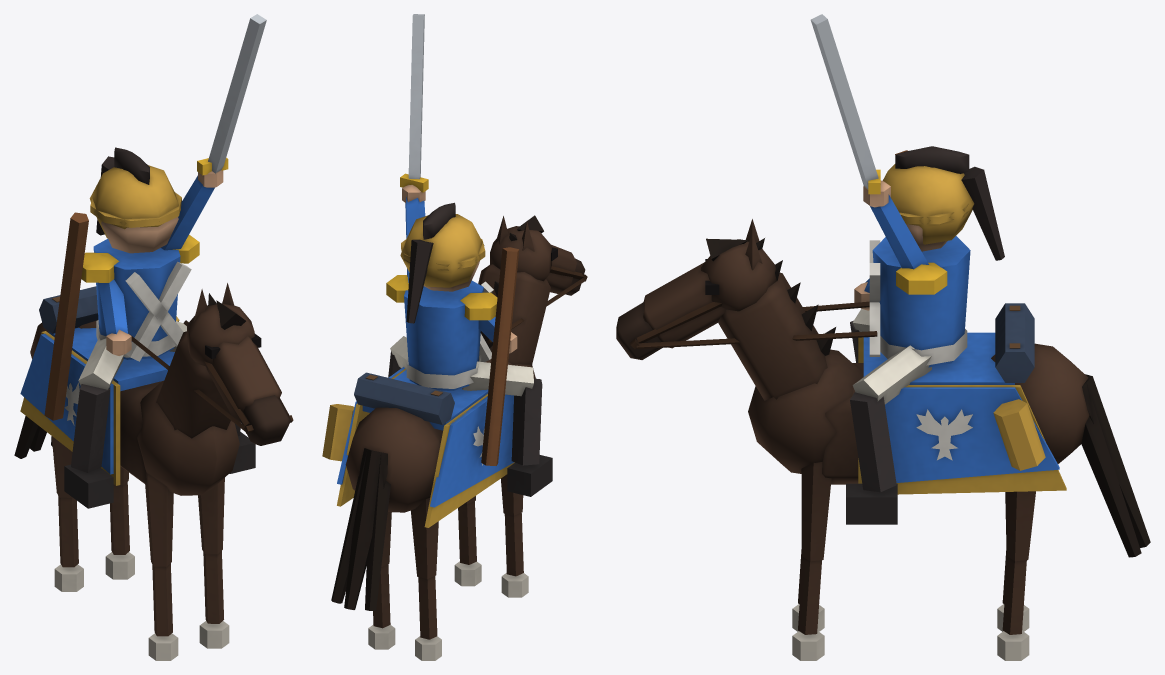
Rendered from assault_dl4_blue.glb.
3 renders of one model, left to right at view 1: azimuth 30°, elevation 25°; view 2: azimuth 150°, elevation 25°; view 3: azimuth 270°, elevation 25°, orthographic. The views are drawn at different scales.
Visible parts, largest first — view 1: assault_dl4_blue; view 2: assault_dl4_blue; view 3: assault_dl4_blue.
Part boxes in pixels (x1,y1,x2,y2): assault_dl4_blue: [14, 14, 293, 660]; assault_dl4_blue: [322, 14, 587, 660]; assault_dl4_blue: [616, 14, 1150, 660].
Size of the model in its own units: 0.2399 by 0.8222 by 0.6004.
Materials: 1 (1 with a texture image).
